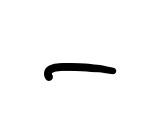minus: (44, 62, 116, 82)
